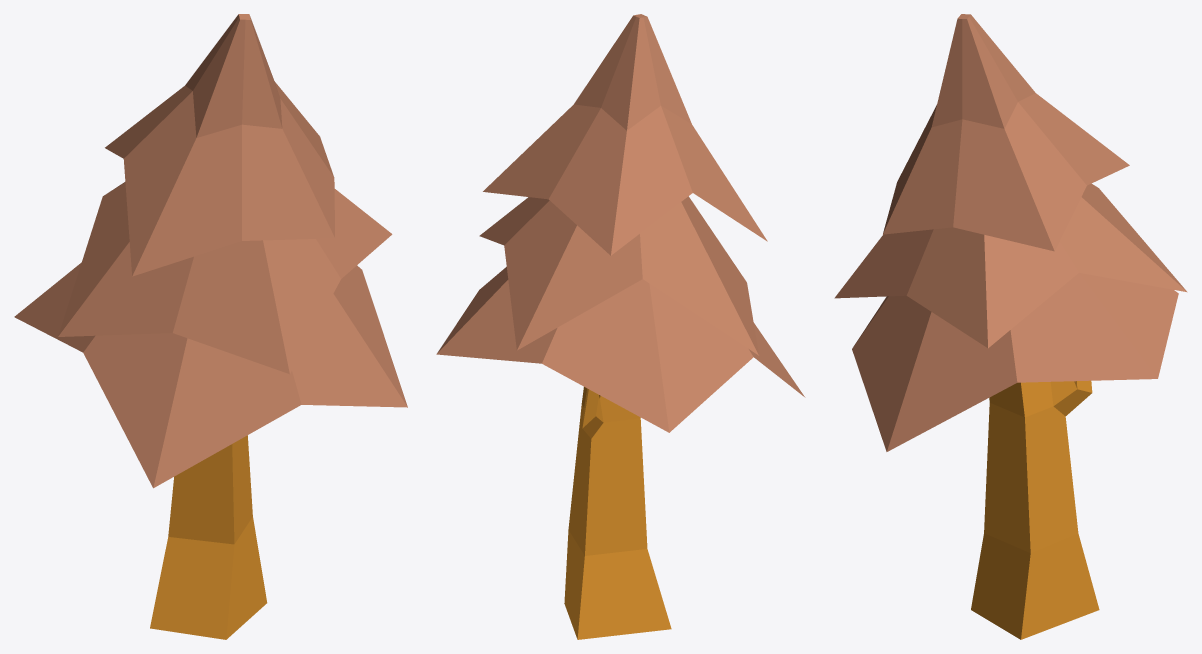
The model's file is pine_tree_2.obj.
The picture shows the model from 3 angles, left to right: view 1: azimuth 30°, elevation 25°; view 2: azimuth 150°, elevation 25°; view 3: azimuth 270°, elevation 25°; orthographic projection. The views are drawn at different scales.
Visible parts, largest first — view 1: pine_tree_2; view 2: pine_tree_2; view 3: pine_tree_2.
Part boxes in pixels (bbox=[...]): pine_tree_2: bbox=[14, 14, 407, 639]; pine_tree_2: bbox=[436, 14, 805, 639]; pine_tree_2: bbox=[834, 14, 1187, 639].
Bounding box in the file's own units: 12.77 × 23.96 × 12.77.
